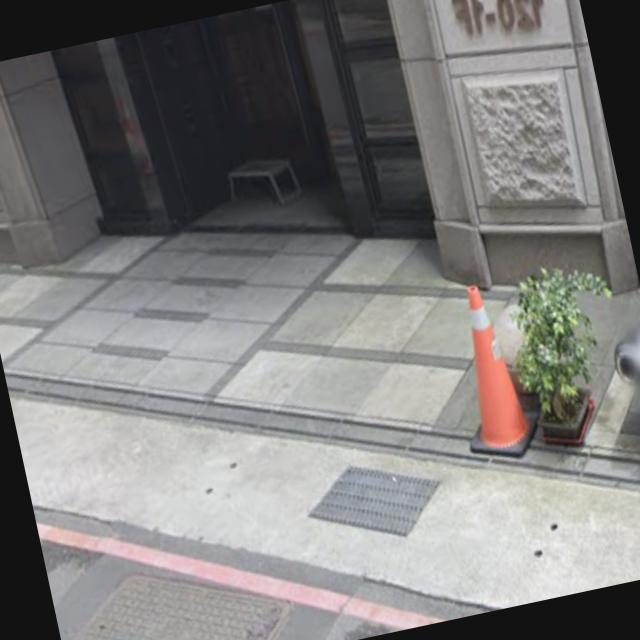cone: (447, 272, 543, 458)
